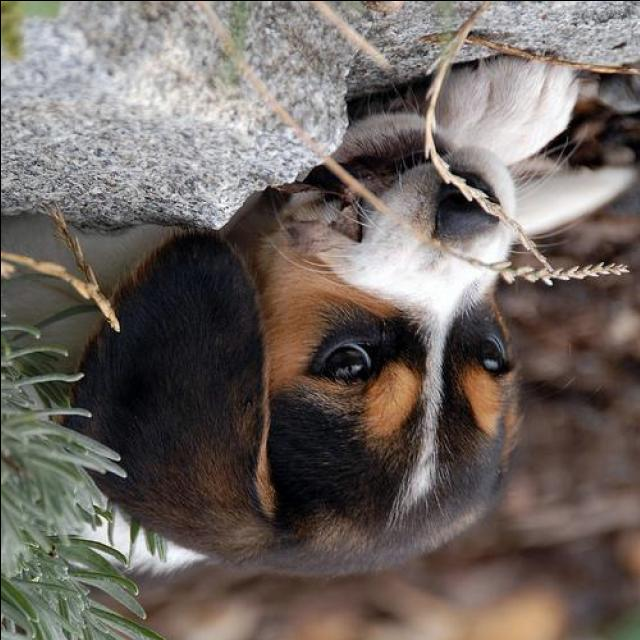beagle: (2, 45, 638, 581)
